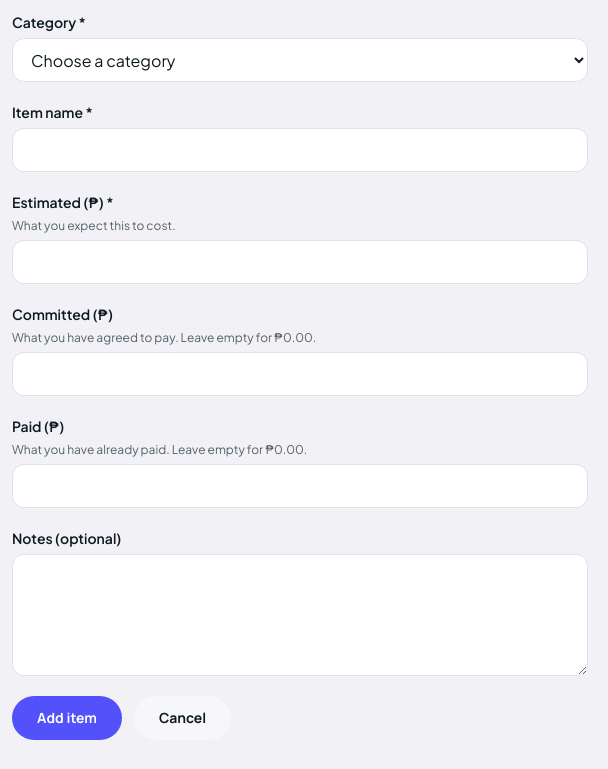
Scenario: ItemForm › lists every problem in the order of the fields
Click the button "Add item" at (67, 718), box [12, 696, 122, 740]
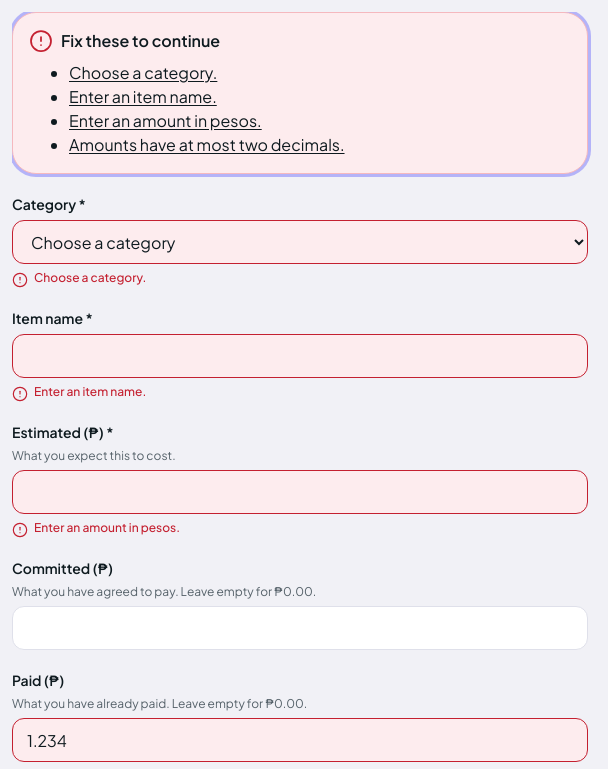
Expected: the field labelled "Paid (₱)" holds "1.234", [12, 718, 588, 762]
